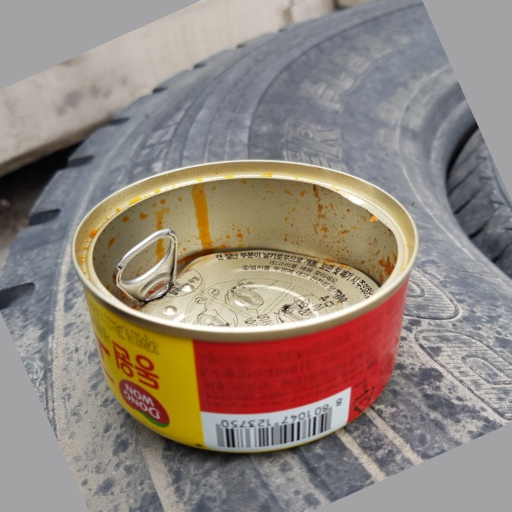Metal_1: (70, 159, 418, 448)
